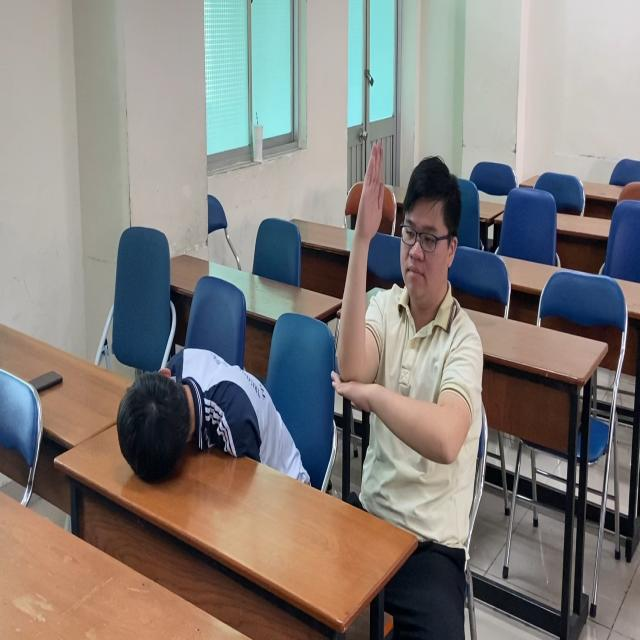raise_hand: (340, 135, 495, 545)
sleep: (103, 322, 312, 496)
